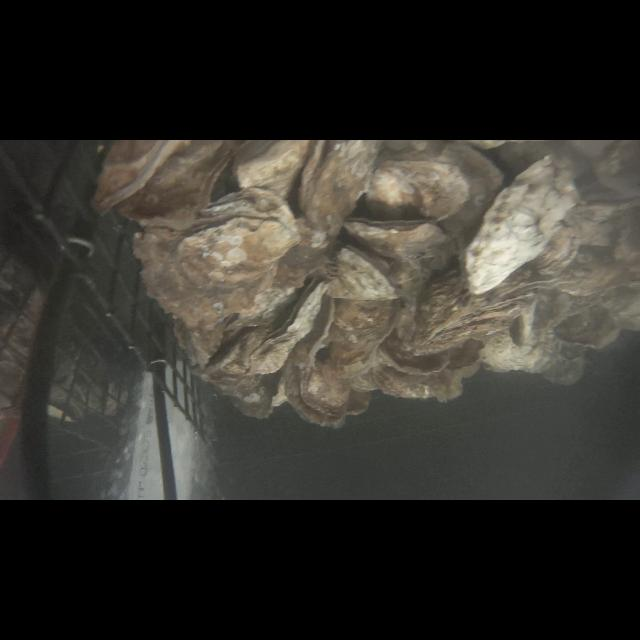Oyster-Closed: (134, 189, 300, 366), (465, 155, 579, 294), (121, 141, 237, 229), (299, 140, 380, 235), (93, 142, 188, 214), (366, 161, 469, 220), (340, 214, 454, 263), (234, 140, 310, 197), (329, 249, 398, 300), (595, 140, 640, 196)
Oyster-Open: (245, 272, 334, 379), (285, 365, 351, 427), (376, 334, 451, 375), (232, 384, 280, 419)
